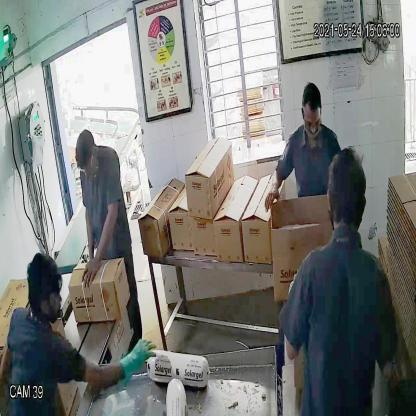goggles: (74, 150, 96, 176)
